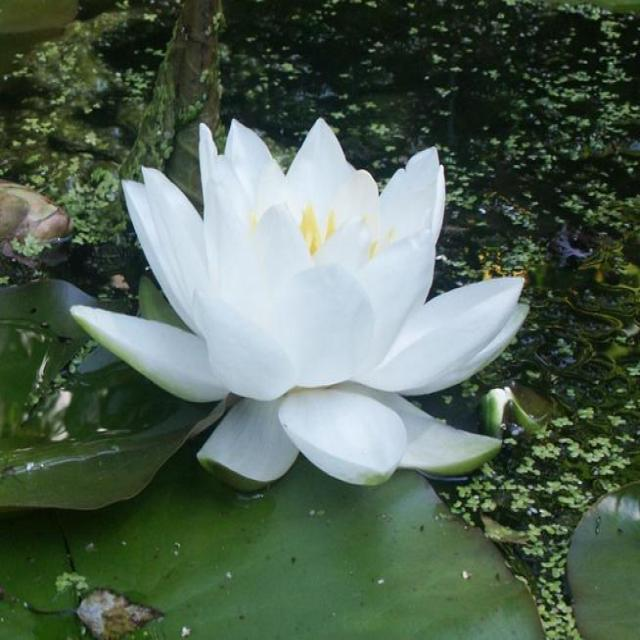rose: (44, 19, 552, 574)
